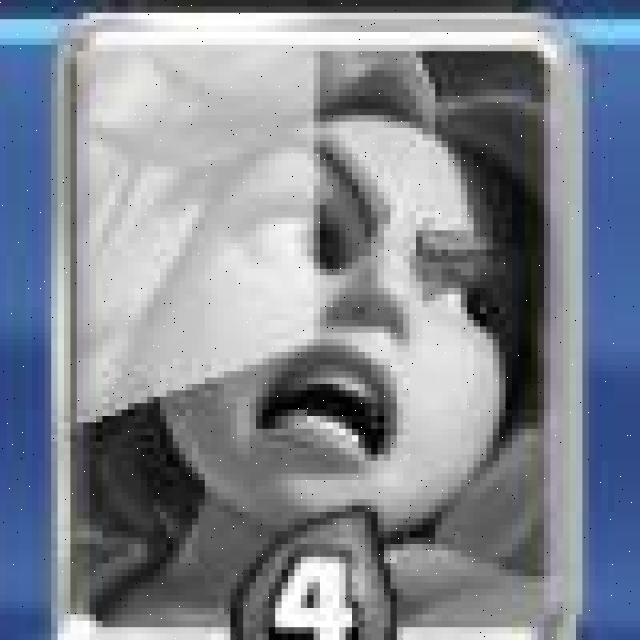Valkyrie: (62, 17, 584, 640)
